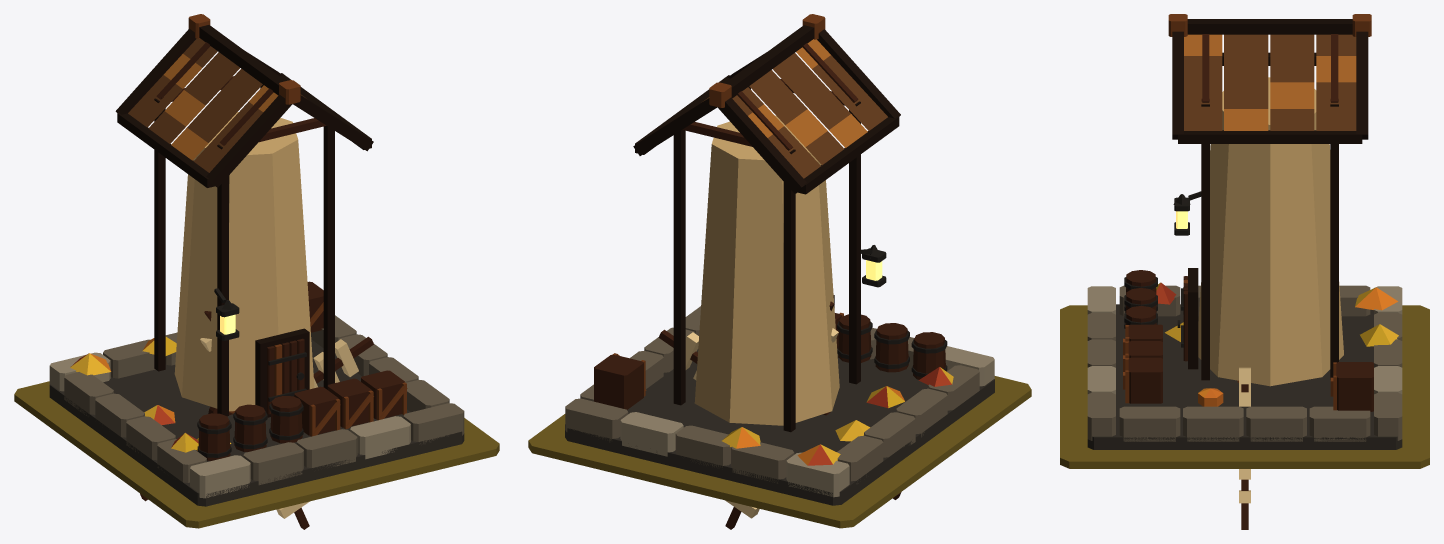
Rendered from mill_t4.glb.
The picture shows the model from 3 angles, left to right: view 1: azimuth 30°, elevation 25°; view 2: azimuth 150°, elevation 25°; view 3: azimuth 270°, elevation 25°; orthographic projection. The views are drawn at different scales.
Visible parts, largest first — view 1: MMR | mill | T04 Architecture.001, MMR | mill | Tier 04 Ground.001, MMR | mill | T04 Wind Rotor.001, MMR | mill | T04 Autumn Dressing.001; view 2: MMR | mill | T04 Architecture.001, MMR | mill | Tier 04 Ground.001, MMR | mill | T04 Autumn Dressing.001, MMR | mill | T04 Wind Rotor.001; view 3: MMR | mill | T04 Architecture.001, MMR | mill | Tier 04 Ground.001, MMR | mill | T04 Autumn Dressing.001, MMR | mill | T04 Wind Rotor.001.
Part boxes in pixels (x1,y1,x2,y2): MMR | mill | T04 Architecture.001: [49, 14, 464, 506]; MMR | mill | Tier 04 Ground.001: [14, 381, 499, 528]; MMR | mill | T04 Wind Rotor.001: [140, 311, 373, 529]; MMR | mill | T04 Autumn Dressing.001: [70, 336, 231, 452]; MMR | mill | T04 Architecture.001: [565, 14, 994, 505]; MMR | mill | Tier 04 Ground.001: [528, 376, 1031, 528]; MMR | mill | T04 Autumn Dressing.001: [722, 367, 953, 465]; MMR | mill | T04 Wind Rotor.001: [658, 301, 901, 529]; MMR | mill | T04 Architecture.001: [1087, 14, 1402, 449]; MMR | mill | Tier 04 Ground.001: [1060, 305, 1429, 468]; MMR | mill | T04 Autumn Dressing.001: [1156, 282, 1398, 406]; MMR | mill | T04 Wind Rotor.001: [1239, 367, 1250, 529].
Bounding box in the file's own units: 2.35 × 3.43 × 2.35.
Materials: 2 (1 with a texture image).
